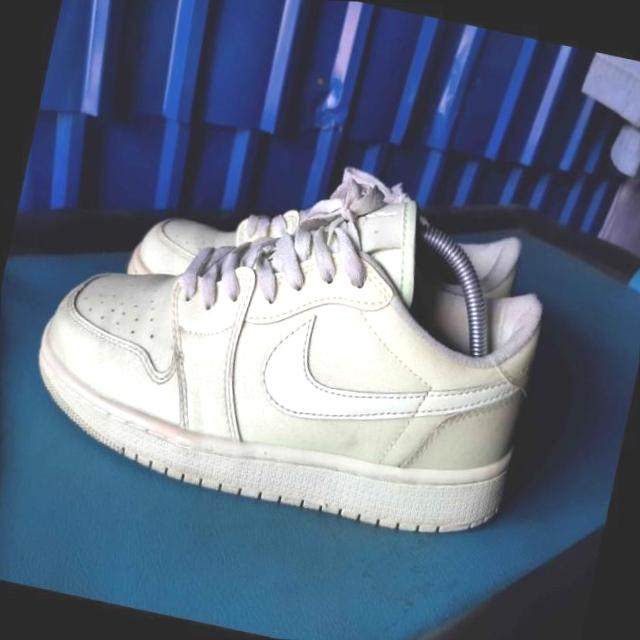nike_fake_jordan: (12, 126, 566, 552)
